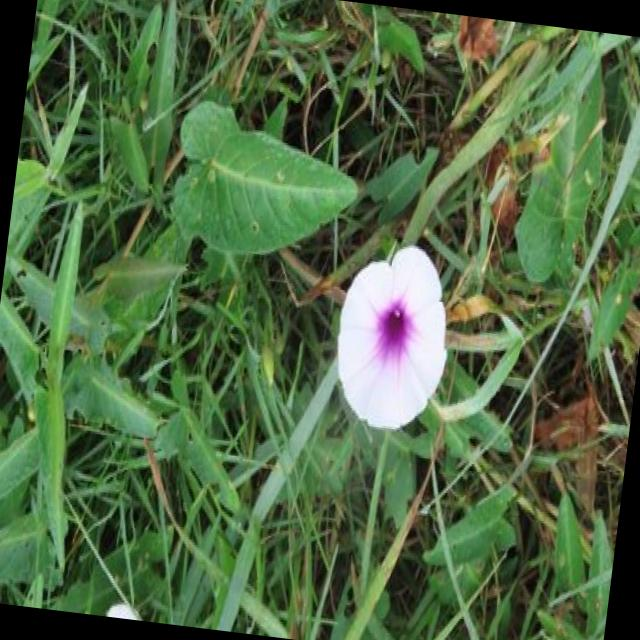ipomoea: (324, 233, 464, 442)
